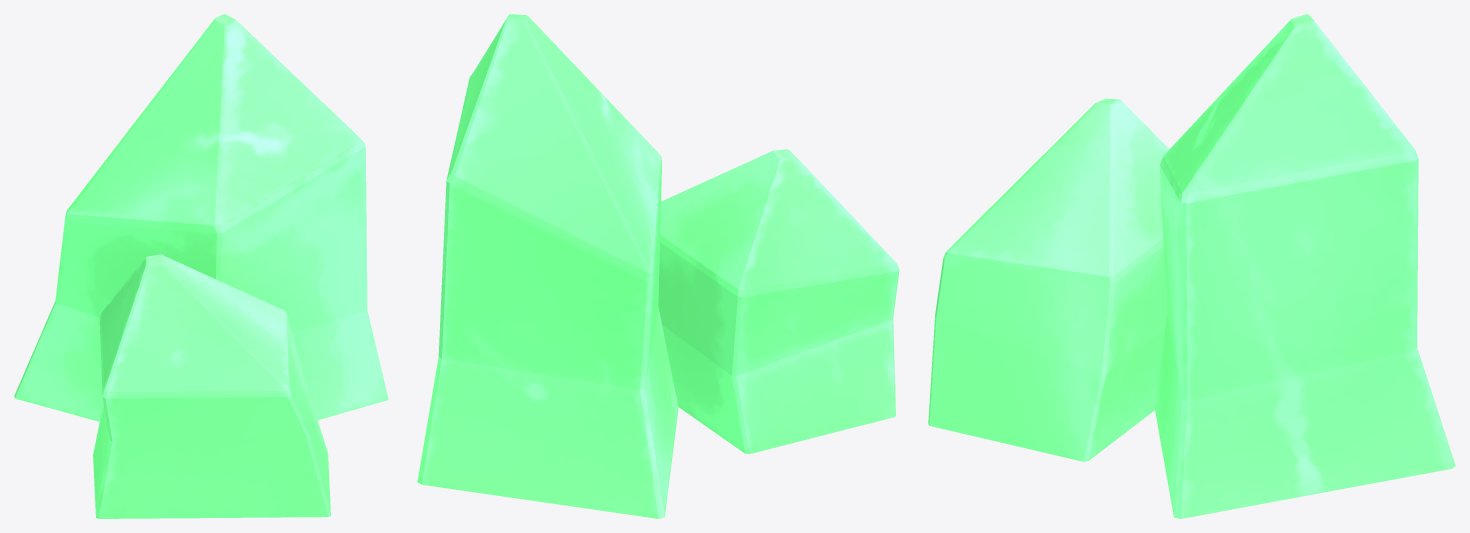
Rendered from Gem_5.fbx.
3 renders of one model, left to right at view 1: azimuth 30°, elevation 25°; view 2: azimuth 150°, elevation 25°; view 3: azimuth 270°, elevation 25°, orthographic. The views are drawn at different scales.
Parts seen in each view (by area): view 1: gem.005; view 2: gem.005; view 3: gem.005.
Part boxes in pixels (left/top/right/bottom): gem.005: left=14, top=14, right=388, bottom=518; gem.005: left=417, top=14, right=899, bottom=518; gem.005: left=928, top=14, right=1455, bottom=518.
Size of the model in its own units: 0.9664 by 0.9992 by 1.09.
Materials: 1 (1 with a texture image).
